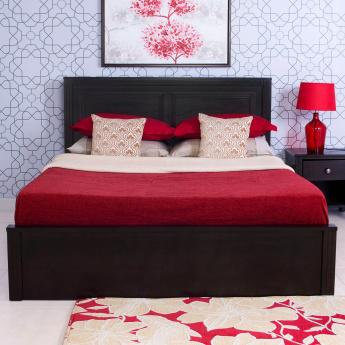bed: (12, 54, 340, 313)
